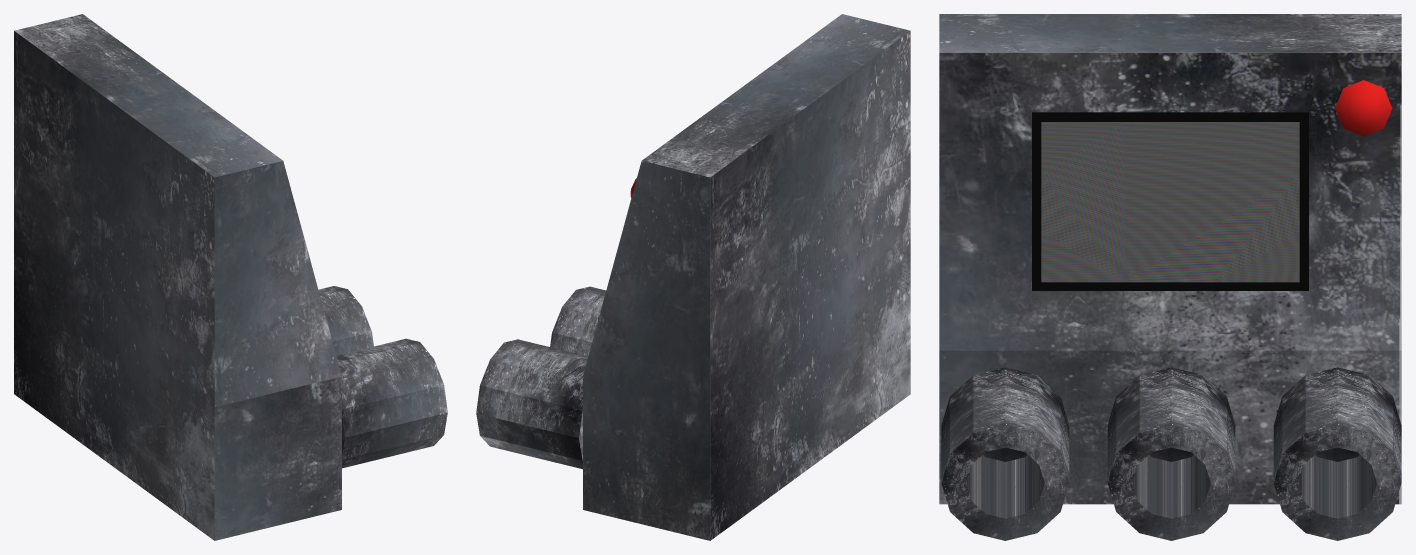
The model's file is CylinderPort.glb.
3 views of the same model, side by side, from view 1: azimuth 30°, elevation 25°; view 2: azimuth 150°, elevation 25°; view 3: azimuth 270°, elevation 25° (orthographic). The views are drawn at different scales.
Visible parts, largest first — view 1: Cube, Fuse Slots; view 2: Cube, Fuse Slots; view 3: Cube, Fuse Slots, Screen, Red.
Boxes of the visible parts, bbox=[...] form: Cube: bbox=[14, 14, 341, 540]; Fuse Slots: bbox=[318, 286, 447, 468]; Cube: bbox=[583, 14, 910, 540]; Fuse Slots: bbox=[476, 286, 606, 469]; Cube: bbox=[939, 14, 1401, 504]; Fuse Slots: bbox=[941, 367, 1401, 540]; Screen: bbox=[1041, 122, 1299, 282]; Red: bbox=[1335, 80, 1392, 136].
Bounding box in the file's own units: 4.87 × 7.23 × 7.23.
Materials: 5 (2 with a texture image).
